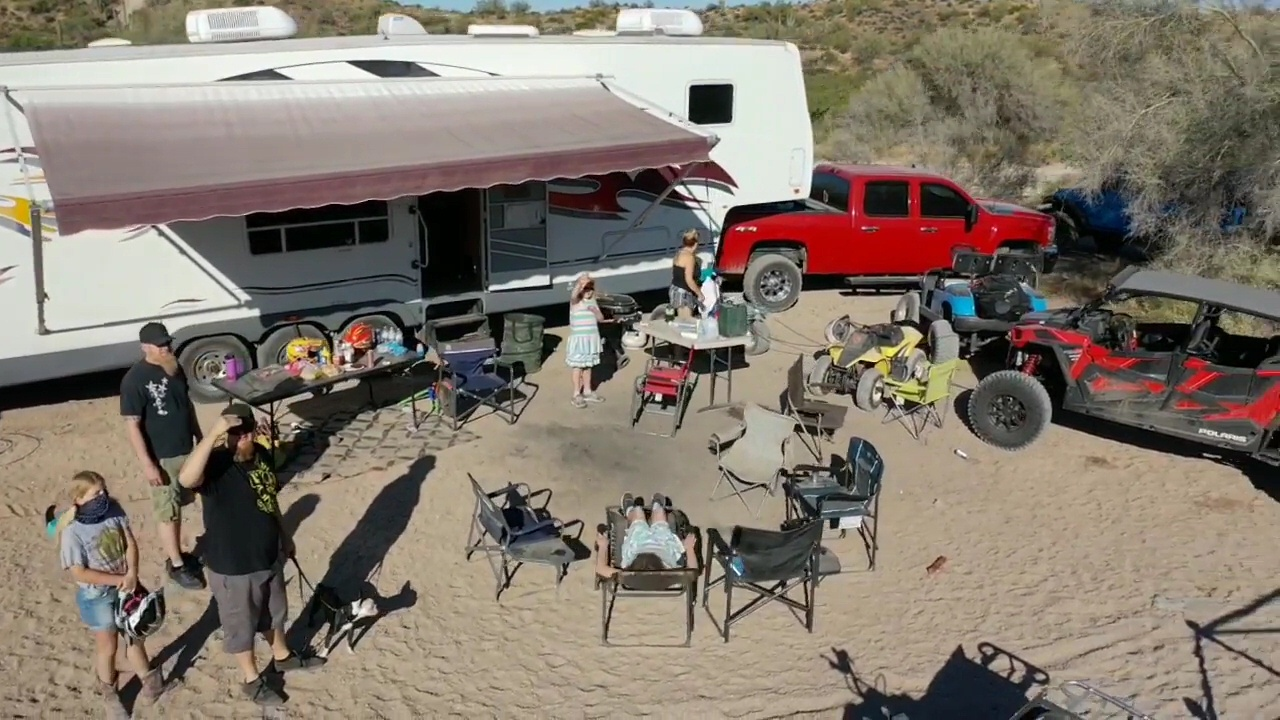araba: (962, 261, 1280, 473)
insan: (201, 402, 321, 708), (58, 468, 168, 719), (115, 317, 201, 587), (597, 487, 695, 582), (566, 269, 603, 408), (669, 226, 706, 323)
